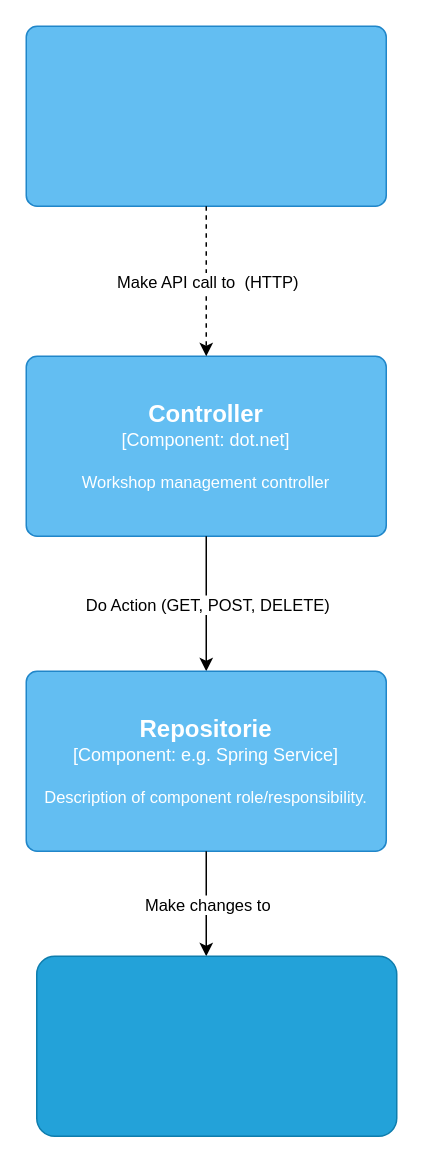
The diagram is 423 pixels wide and 1163 high, and some of its shapes have lost their labels. Each missing label, with the centre of its shape:
"Database [Container: AZURE DB] Azure Database" goes at (x=216, y=1045).
"WEBAPP [Component: DOT.net] Webapplicatie" goes at (x=205, y=115).
